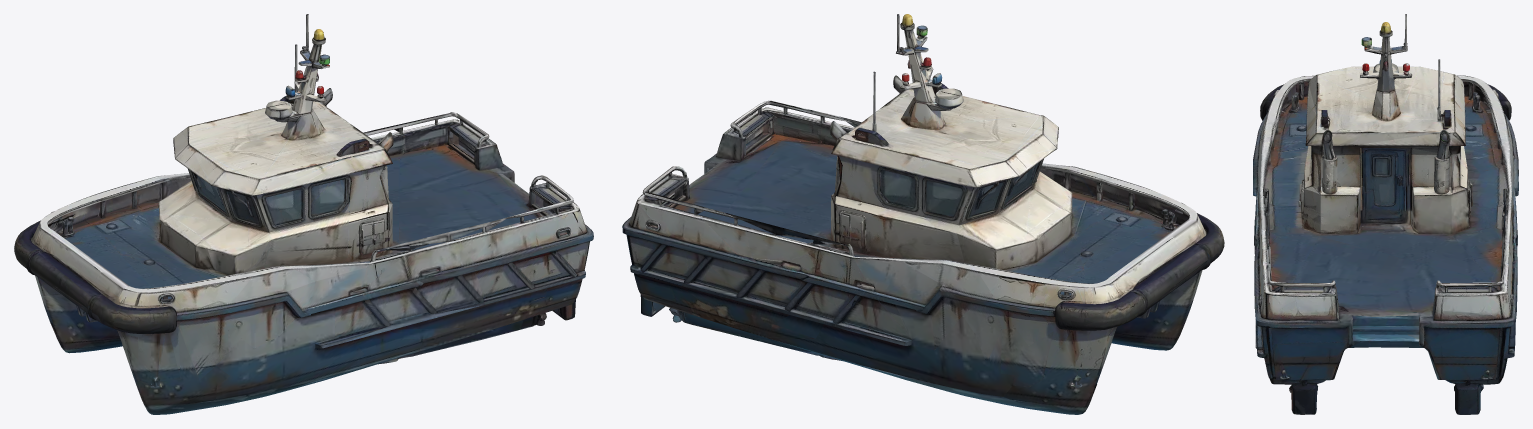
The model's file is crew_boat.glb.
The picture shows the model from 3 angles, left to right: view 1: azimuth 30°, elevation 25°; view 2: azimuth 150°, elevation 25°; view 3: azimuth 270°, elevation 25°; orthographic projection. The views are drawn at different scales.
Size of the model in its own units: 1.9 by 1.21 by 0.9556.
Materials: 1 (1 with a texture image).
